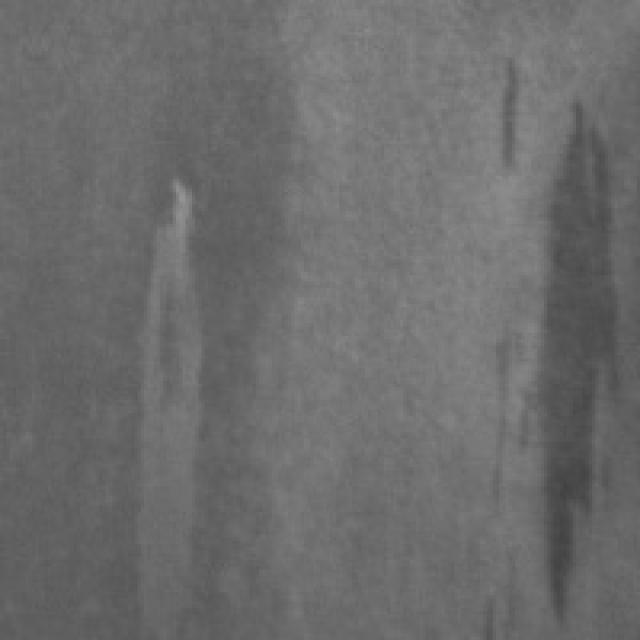inclusion: (518, 90, 628, 627), (477, 48, 528, 186)
